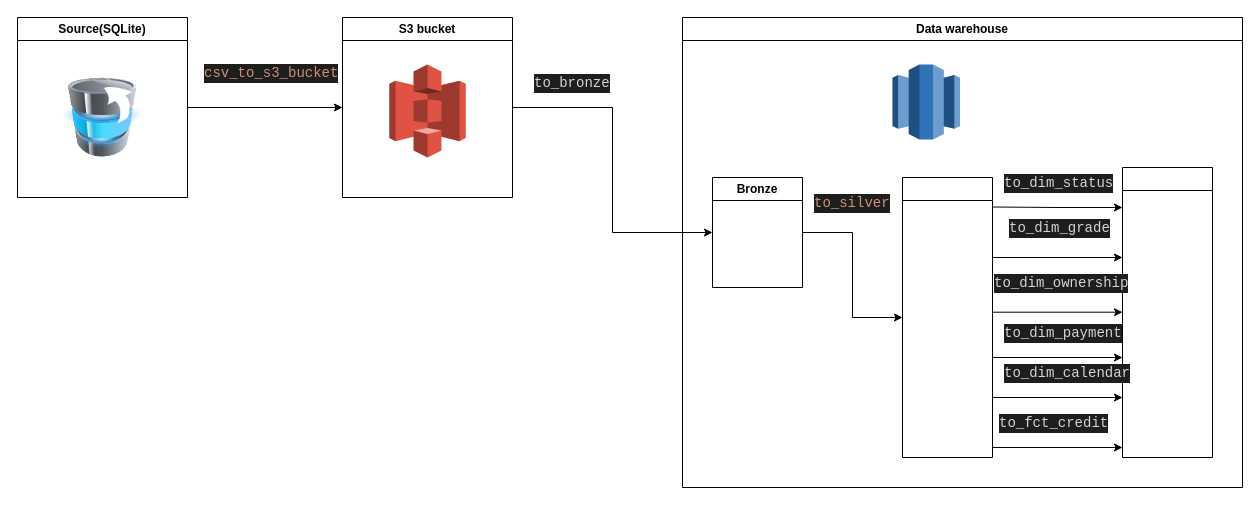
This 1260x505 diagram has some shape labels left out. The shapes that lost their labels are listed below. From the top down, each one's centre as x and y in pixels, then its label:
At point 947,317: "Silver".
At point 1167,312: "Gold".
